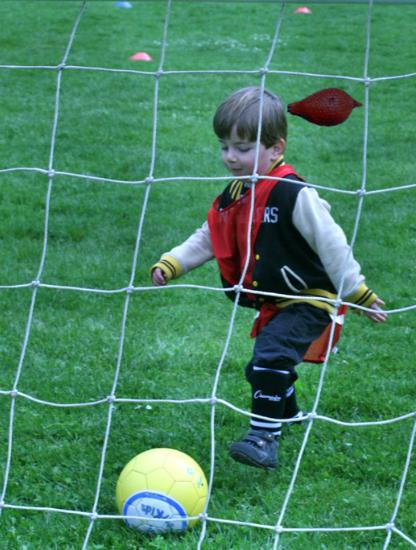Salak: (287, 69, 364, 146)
